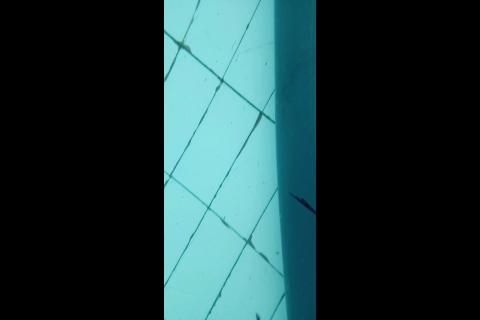keretakan: (287, 191, 316, 217)
